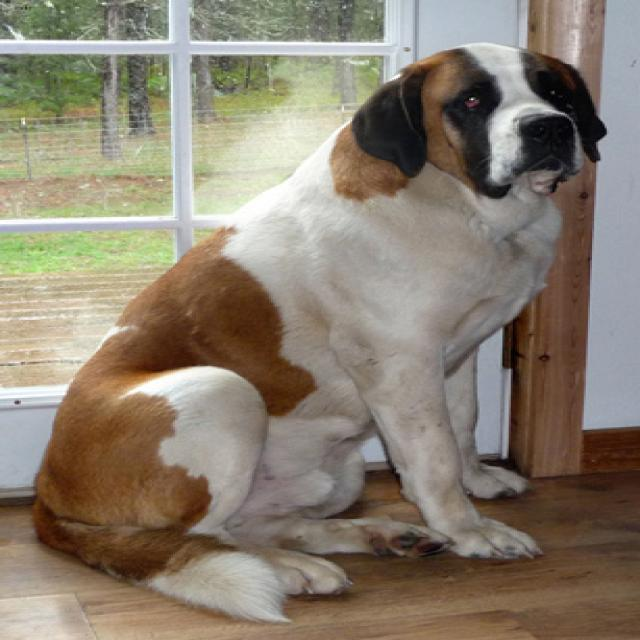dog-saint_bernard: (23, 38, 613, 633)
